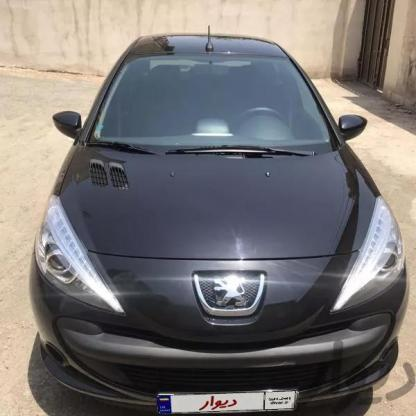Car: (1, 22, 412, 416)
